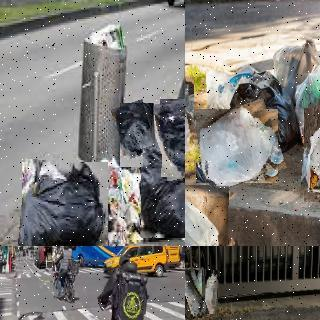Garbage: (191, 104, 283, 189), (20, 160, 109, 246), (140, 153, 185, 238), (116, 101, 159, 169), (185, 184, 228, 246), (156, 97, 185, 179), (185, 267, 205, 319), (202, 270, 220, 317)
